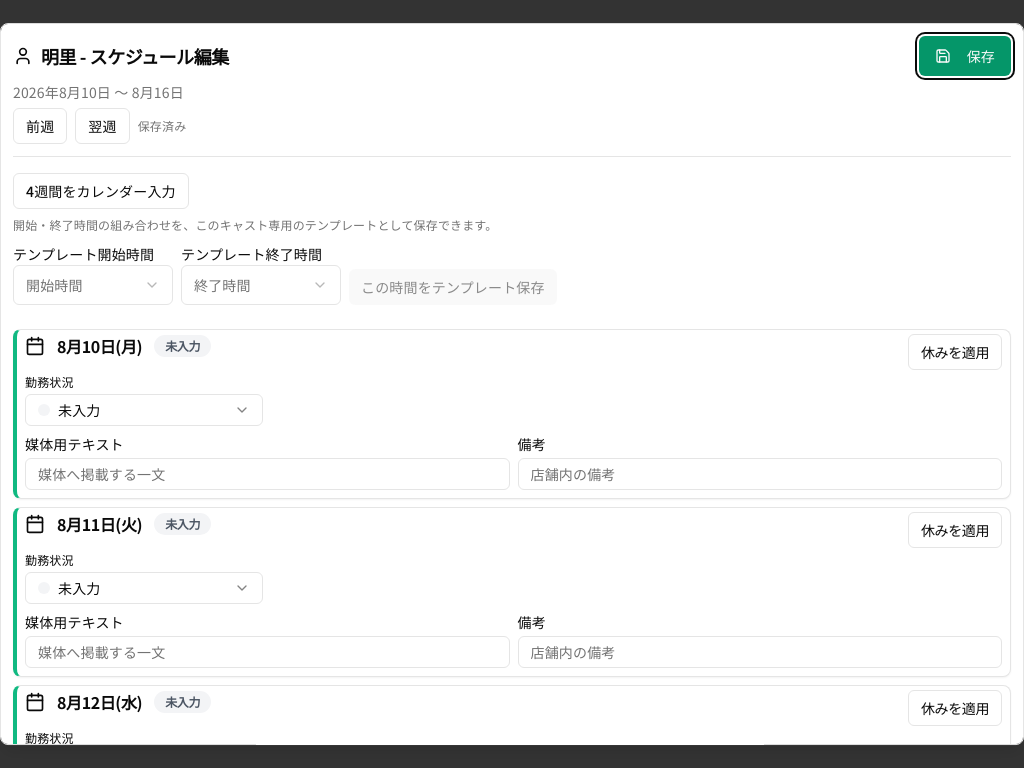
ScheduleEditDialog day templates › marks the clicked date as 休日 from 休みを適用
The width and height of the screenshot is (1024, 768).
Click the button "休みを適用" in the row of "8月10日(月)". click: [955, 352]
box: 908,334 -> 1002,370
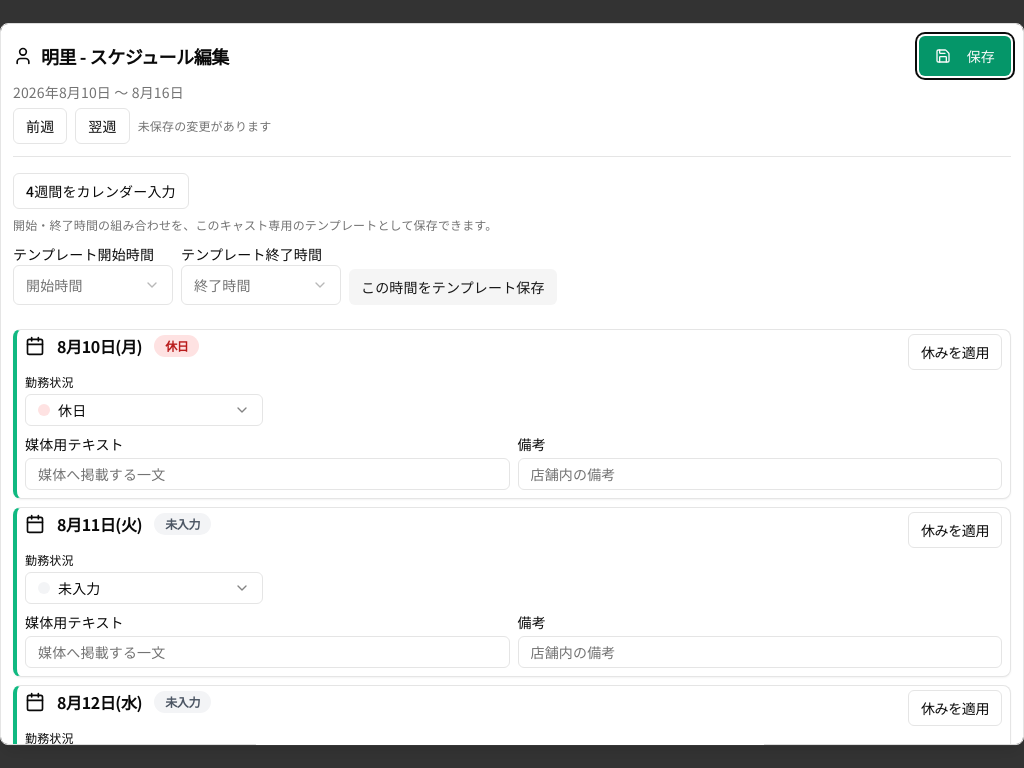
Expected: the dropdown labelled "休日" is shown, 25,394 -> 263,426
